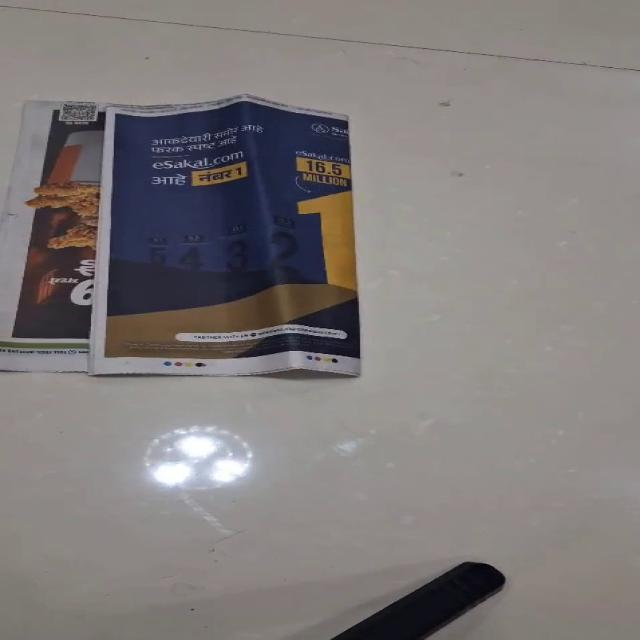paper: (86, 94, 360, 378)
